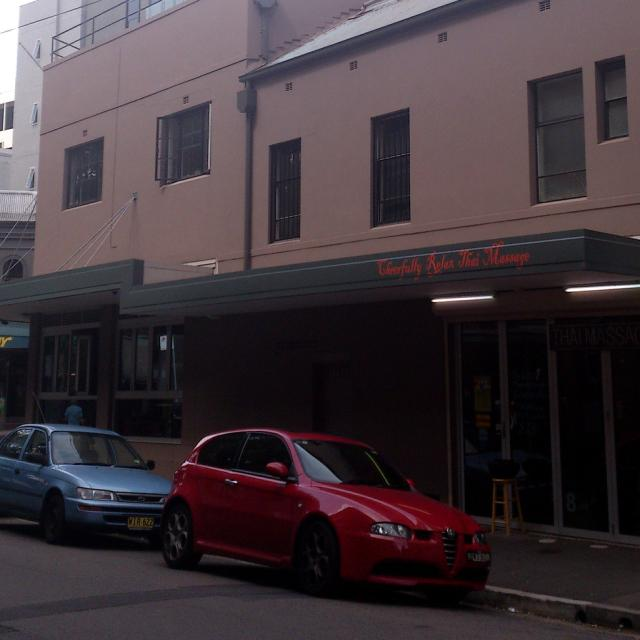car: (161, 427, 491, 596)
